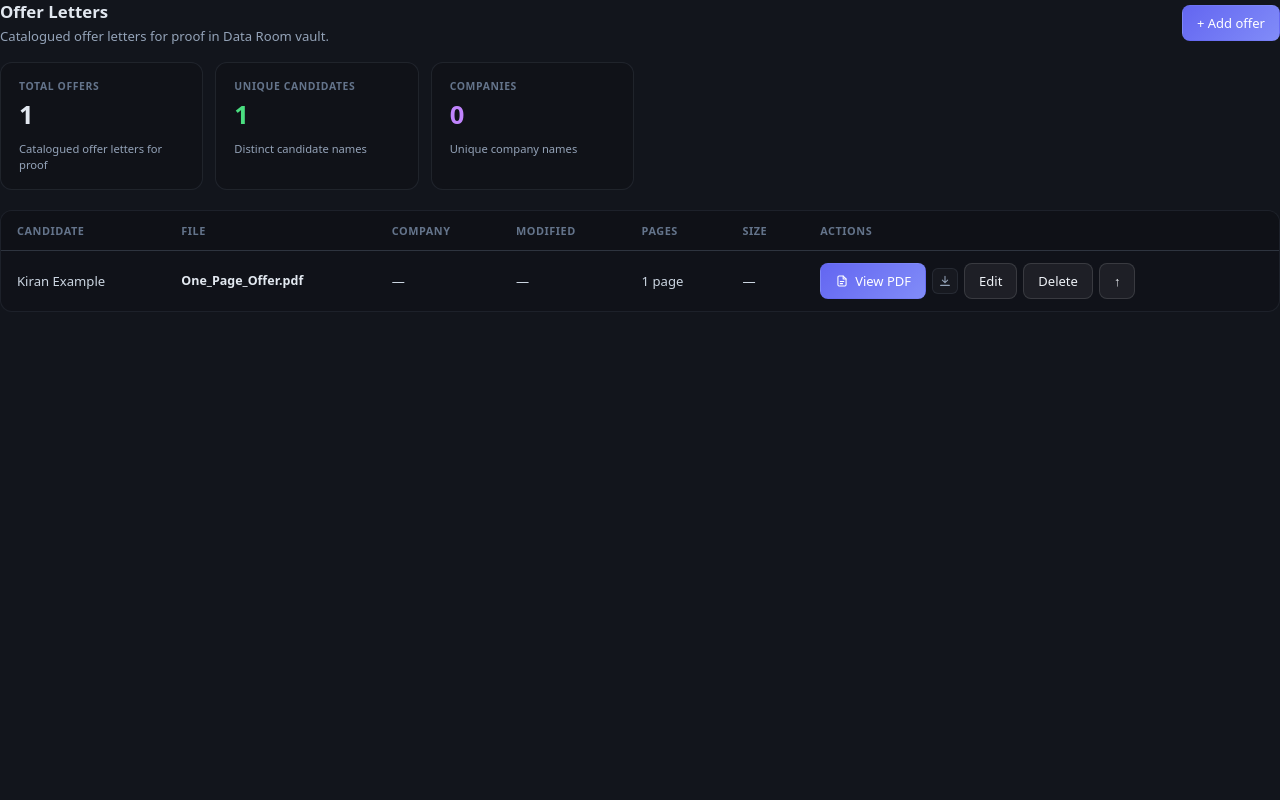
Test: the page count › says a one-page letter is one page, and adds nothing to it
Click the button "View PDF" at (873, 280), box [820,262,926,298]
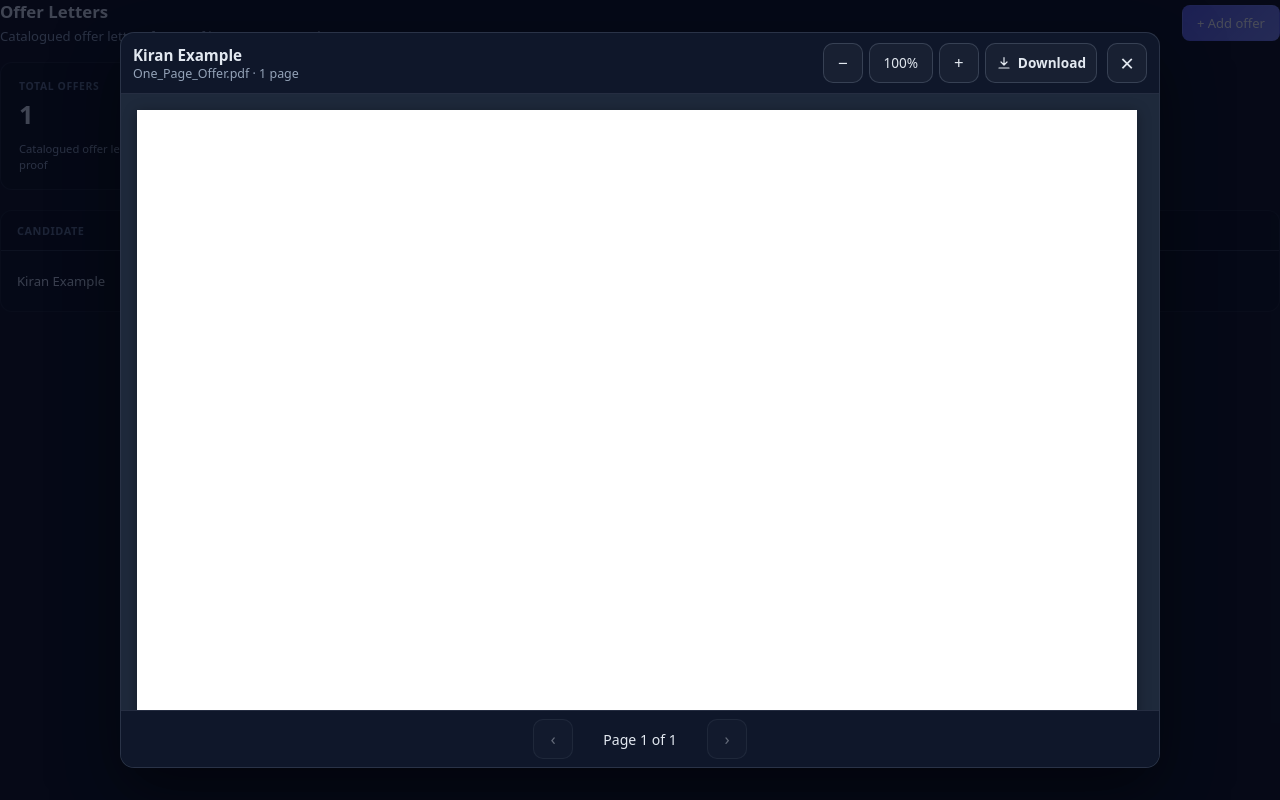
expect the button named "Previous page" is disabled: met, box [533,719,573,759]
expect the text with class "offer-preview__page-of" reads "Page 1 of 1": met, box [603,730,677,748]
expect the dialog "Example" shows "One_Page_Offer.pdf · 1 page": met, box [133,64,299,82]
